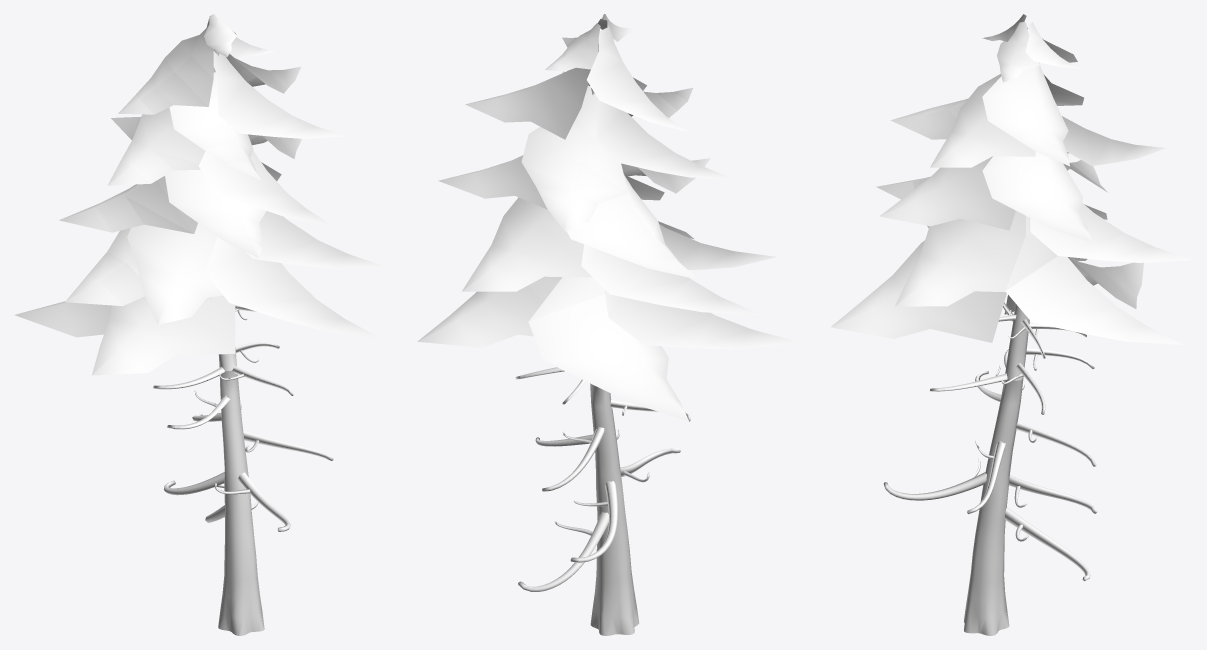
The model's file is sapin_3.glb.
3 views of the same model, side by side, from view 1: azimuth 30°, elevation 25°; view 2: azimuth 150°, elevation 25°; view 3: azimuth 270°, elevation 25° (orthographic). The views are drawn at different scales.
Parts seen in each view (by area): view 1: Pine_3, Pine_3-col; view 2: Pine_3, Pine_3-col; view 3: Pine_3, Pine_3-col.
Part boxes in pixels (left/top/right/bottom): Pine_3: left=14, top=14, right=387, bottom=375; Pine_3-col: left=153, top=366, right=333, bottom=635; Pine_3: left=417, top=14, right=800, bottom=421; Pine_3-col: left=518, top=383, right=690, bottom=635; Pine_3: left=831, top=14, right=1191, bottom=414; Pine_3-col: left=883, top=349, right=1097, bottom=635.
Bounding box in the file's own units: 3.61 × 7.39 × 4.
Materials: 2 (1 with a texture image).
